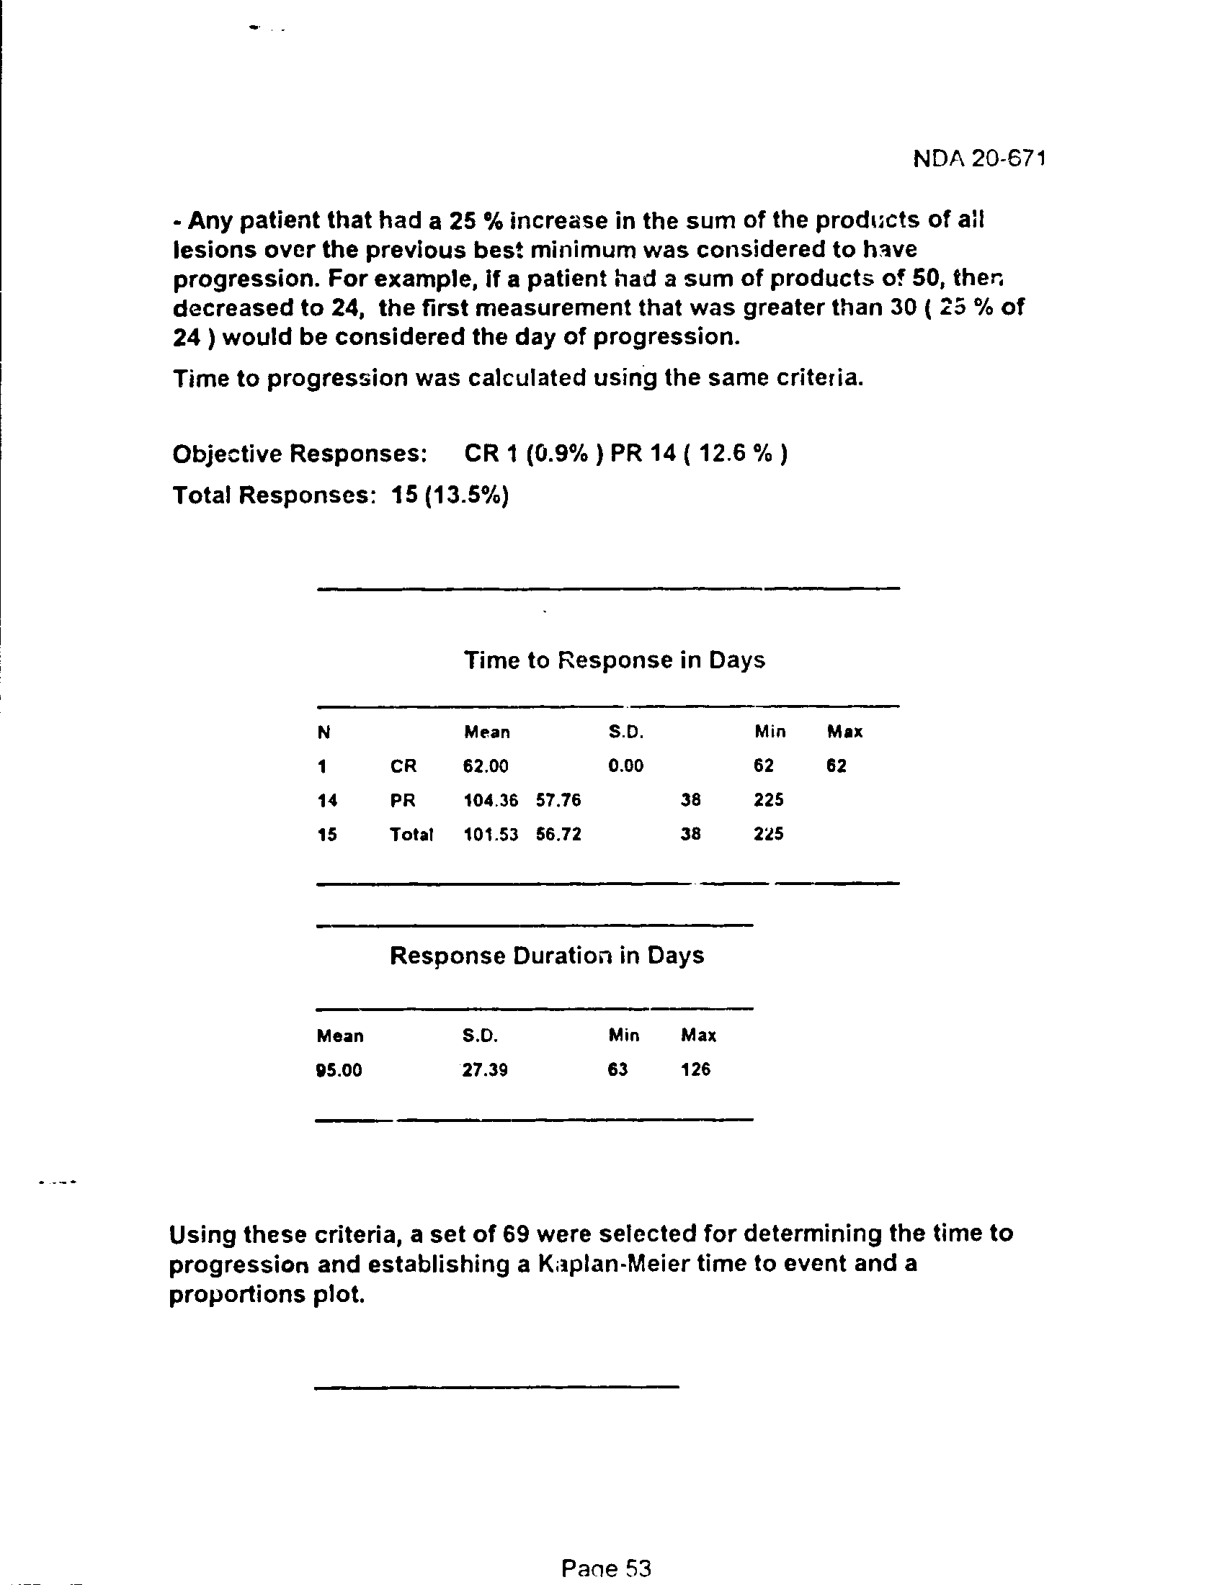partial_lined: (311, 705, 902, 889), (313, 1005, 753, 1126)
